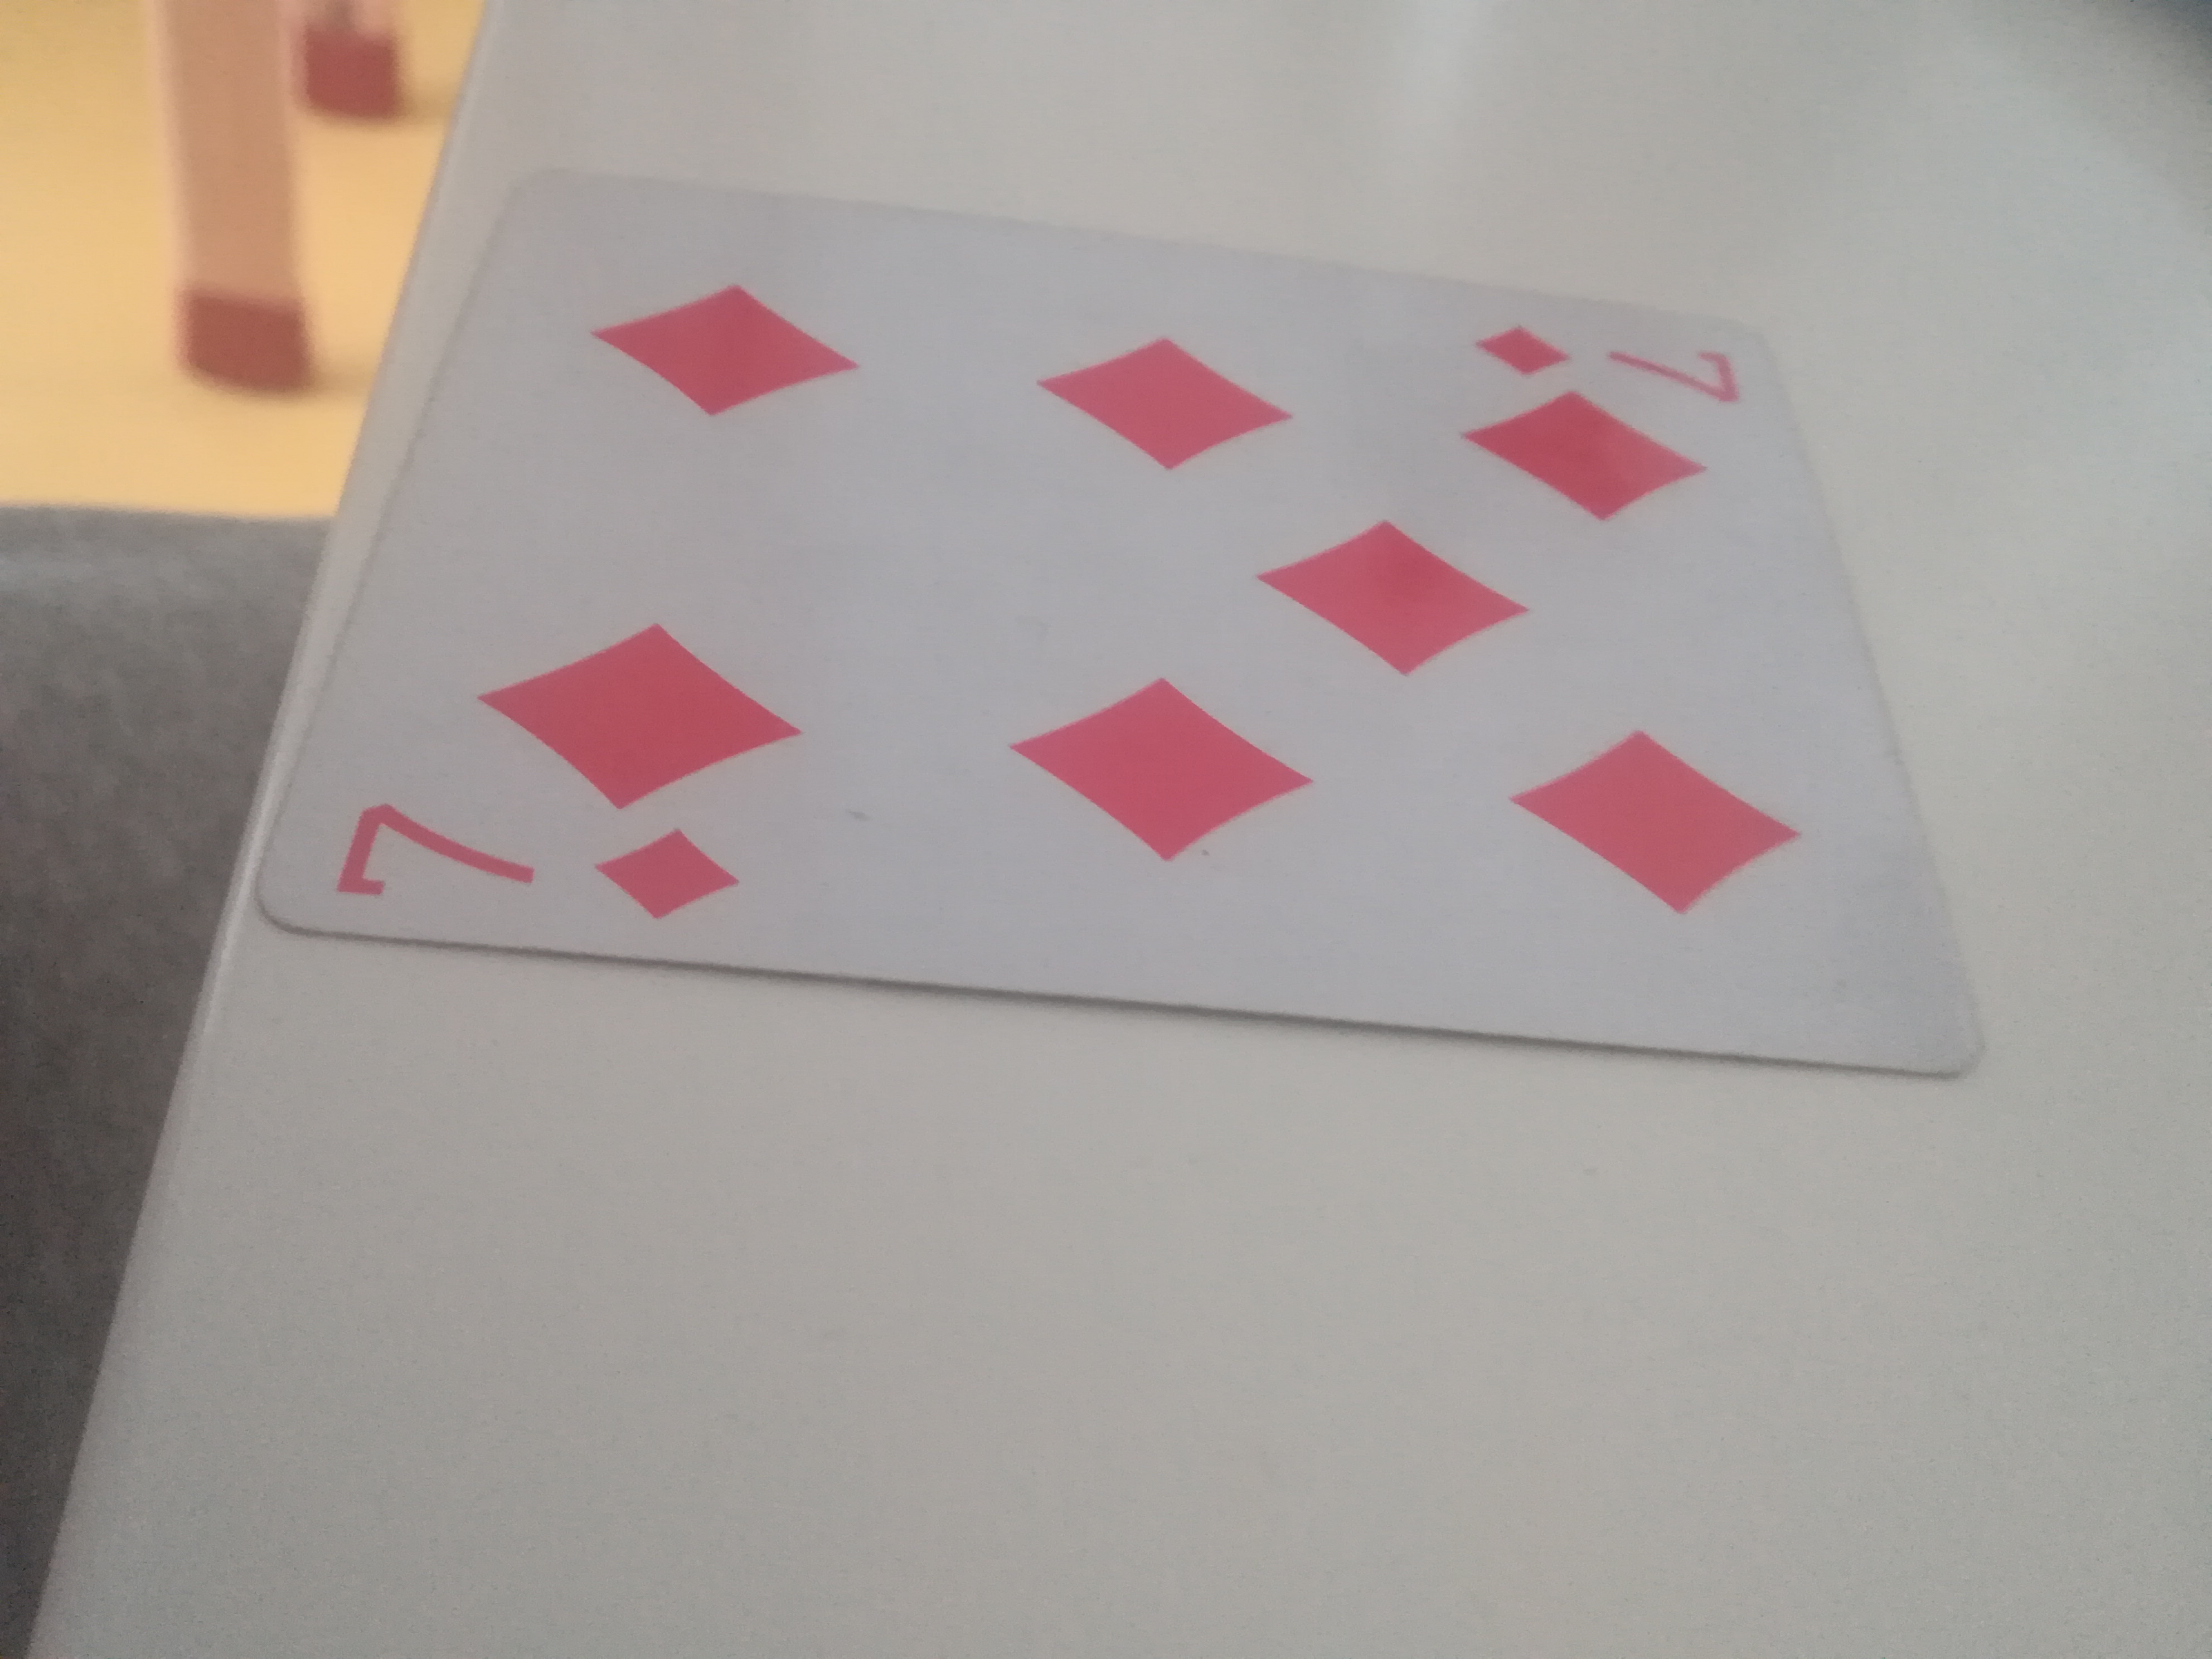7D: (286, 155, 1996, 1114)
